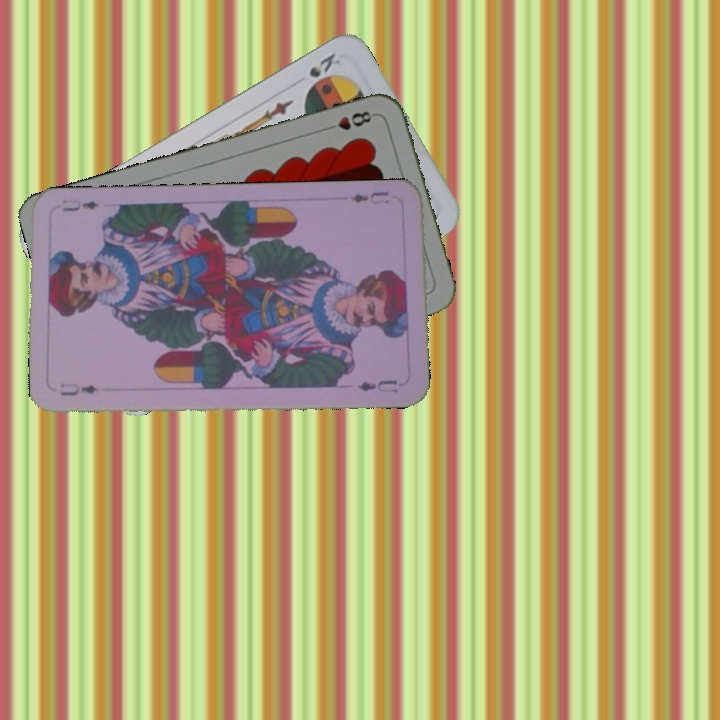EU: (347, 187, 391, 207), (56, 380, 100, 398)
H8: (320, 107, 378, 134)
SK: (304, 48, 343, 91)
